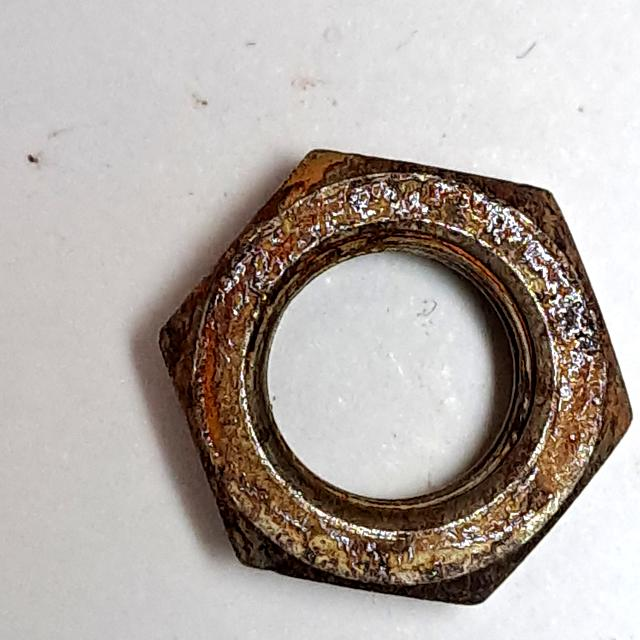Rust: (147, 135, 640, 625)
